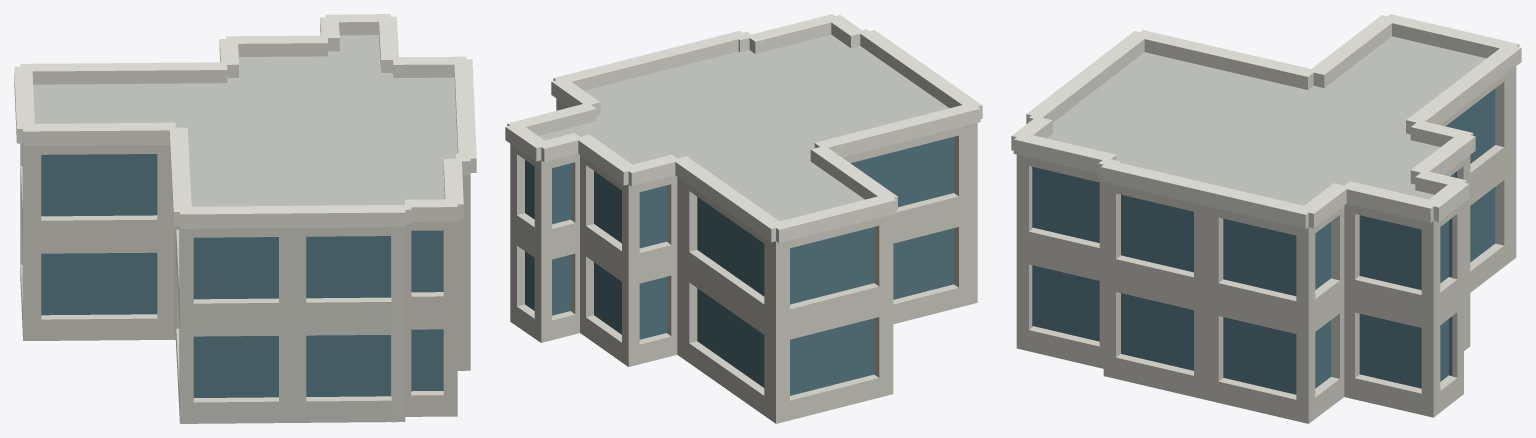
File: sb_1075272612.far.glb
3 renders of one model, left to right at view 1: azimuth 30°, elevation 25°; view 2: azimuth 150°, elevation 25°; view 3: azimuth 270°, elevation 25°, orthographic. The views are drawn at different scales.
Visible parts, largest first — view 1: wall, roof, glass, trim; view 2: wall, roof, glass, trim; view 3: wall, roof, glass, trim.
Part boxes in pixels (x1,y1,x2,y2): wall: (20, 143, 470, 423); roof: (33, 35, 457, 206); glass: (41, 154, 443, 397); trim: (14, 14, 476, 228); wall: (510, 98, 977, 423); roof: (539, 34, 949, 221); glass: (525, 137, 953, 395); trim: (505, 14, 982, 243); wall: (1016, 66, 1516, 423); roof: (1046, 36, 1486, 205); glass: (1032, 88, 1495, 394); trim: (1011, 14, 1521, 229).
Size of the model in its own units: 13.13 by 6.44 by 14.09.
